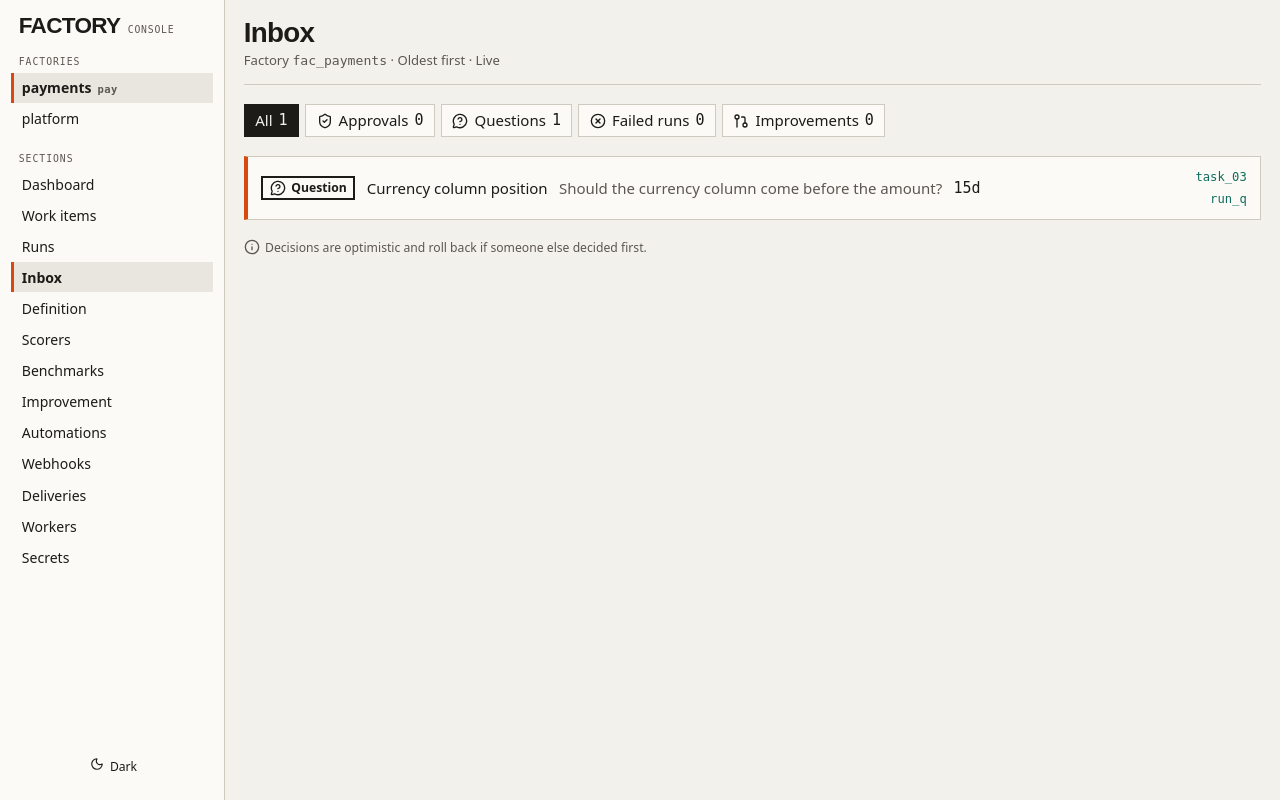
it: inbox › removes an answered question and restores it when the answer conflicts
This screenshot has width=1280, height=800.
Click the button "Currency column": (723, 188) [261,168,1184,208]
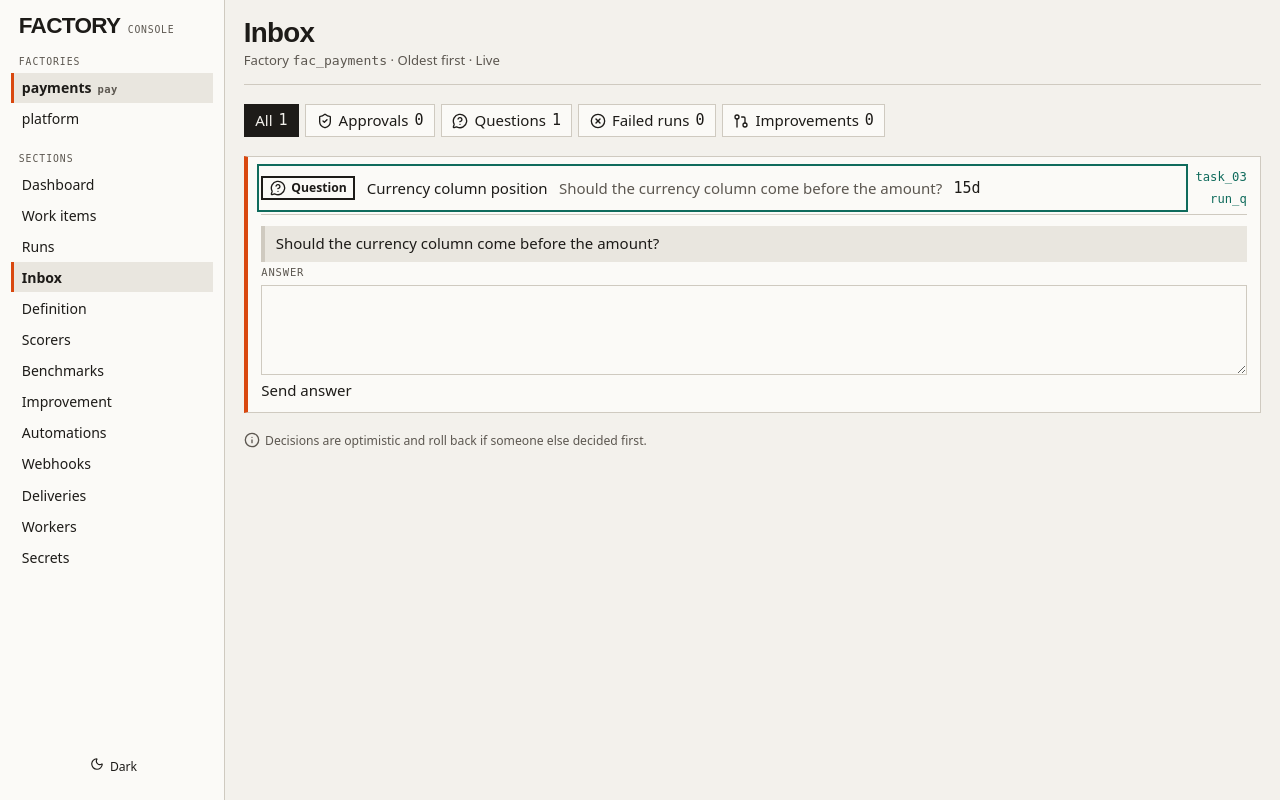
In the text box labelled "Answer": (754, 330) [261,285,1247,375], type "before the amount"
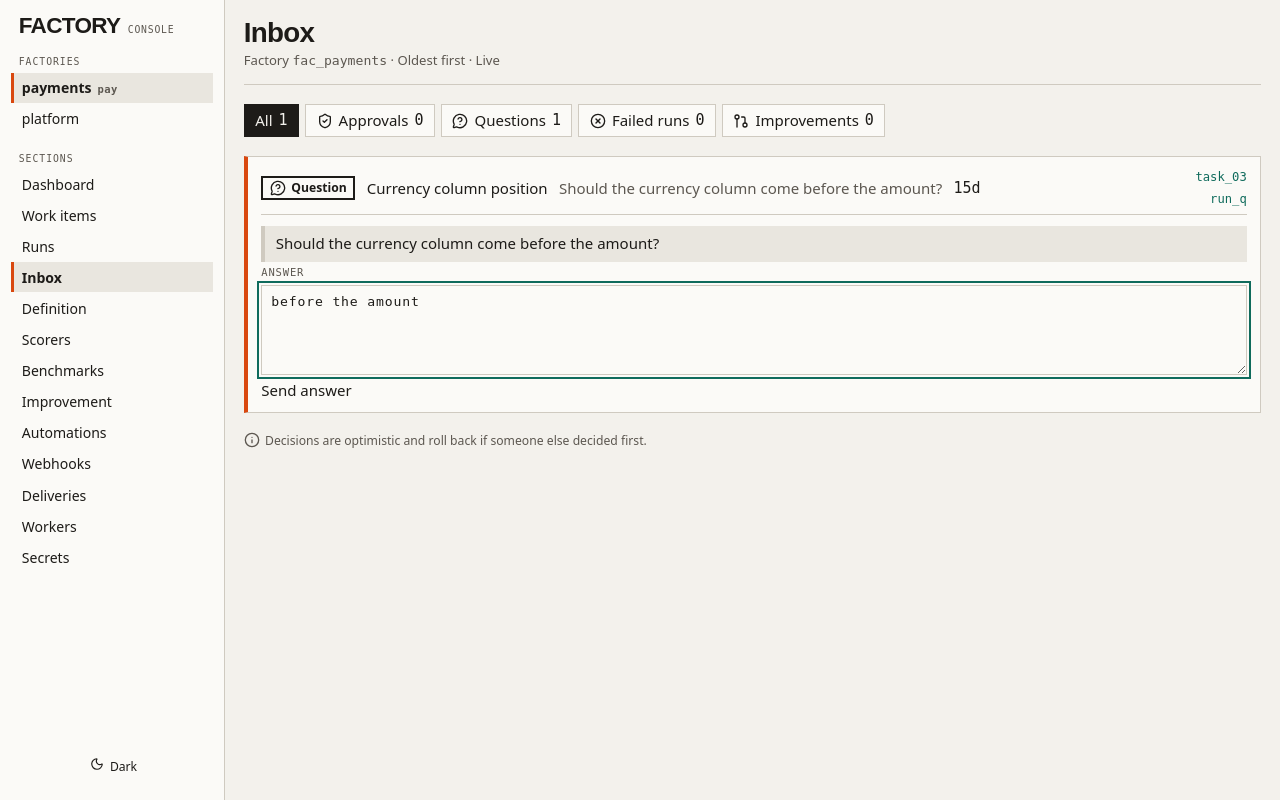
Click the button "Send answer": (306, 390) [261,378,352,401]
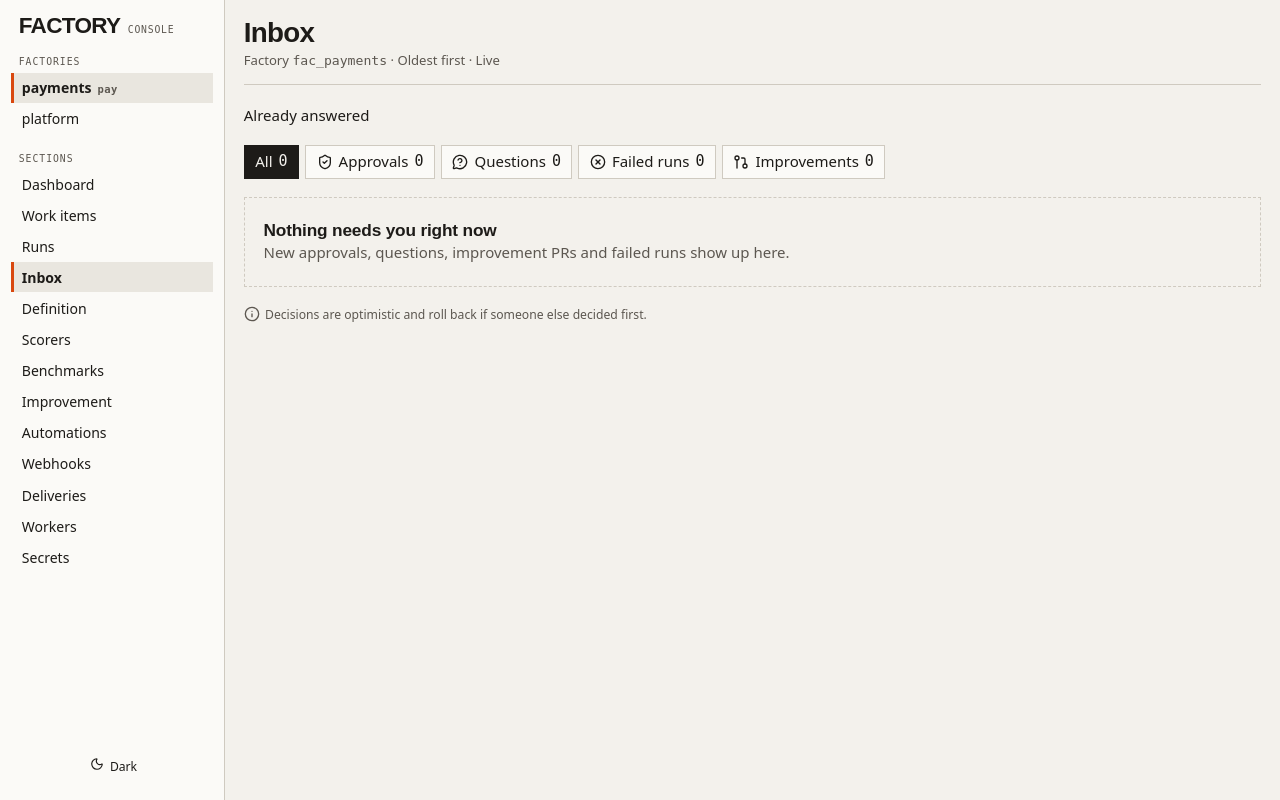
Check: the message reads "Already answered", box [244,105,370,125]
Check: the button "Currency column position" is gone
